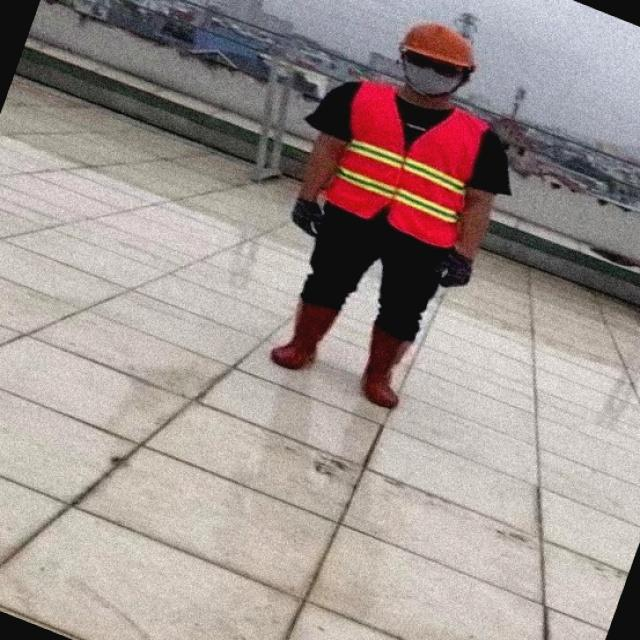helmet: (390, 28, 504, 68)
safety_vest: (328, 66, 500, 249)
